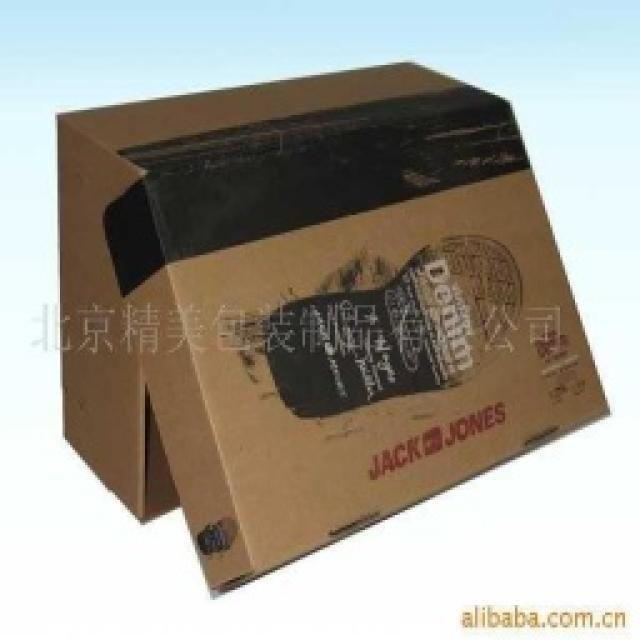box: (55, 52, 636, 574)
